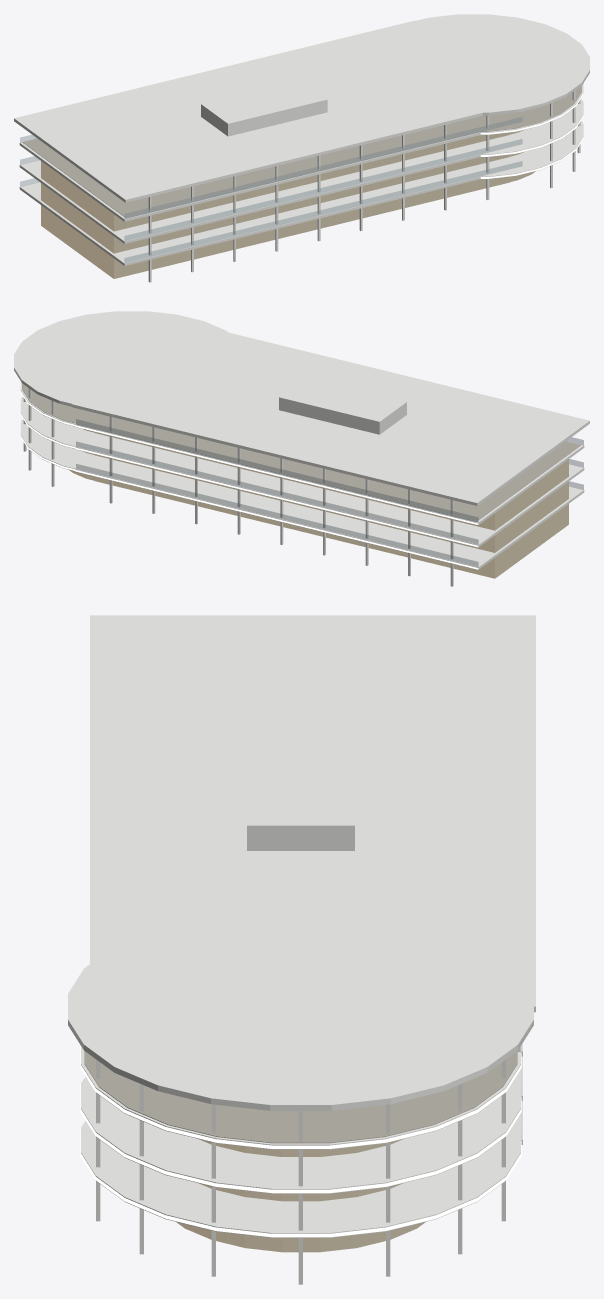
The model's file is mia_pit_ext.glb.
3 views of the same model, one above another, from view 1: azimuth 30°, elevation 25°; view 2: azimuth 150°, elevation 25°; view 3: azimuth 270°, elevation 25° (orthographic). The views are drawn at different scales.
Parts seen in each view (by area): view 1: miami-paddock-club-extension-2027; view 2: miami-paddock-club-extension-2027; view 3: miami-paddock-club-extension-2027.
Boxes of the visible parts, left/top/right/bottom form: miami-paddock-club-extension-2027: left=14, top=14, right=589, bottom=282; miami-paddock-club-extension-2027: left=14, top=311, right=589, bottom=586; miami-paddock-club-extension-2027: left=68, top=615, right=535, bottom=1284.
Size of the model in its own units: 107 by 21.7 by 43.21.
